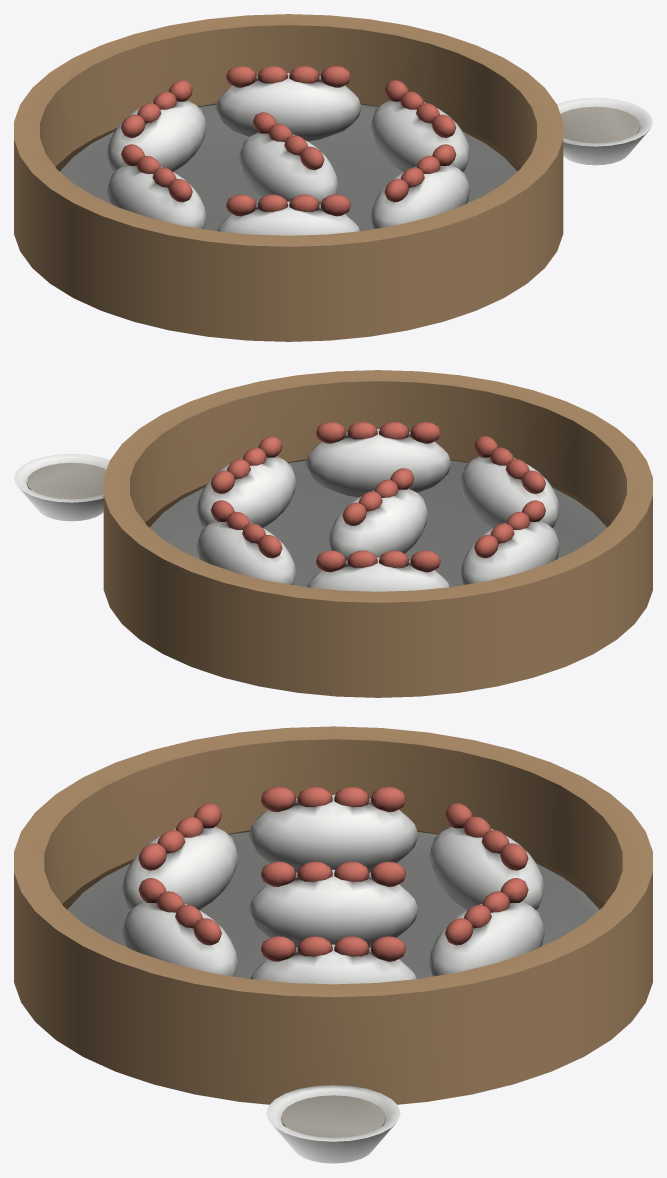
Rendered from meal_dumpling.glb.
The picture shows the model from 3 angles, top to bottom: view 1: azimuth 30°, elevation 25°; view 2: azimuth 150°, elevation 25°; view 3: azimuth 270°, elevation 25°; orthographic projection. The views are drawn at different scales.
Parts seen in each view (by area): view 1: PART; view 2: PART; view 3: PART.
Boxes of the visible parts, box(x1,y1,x2,y2) form: PART: box(14, 14, 652, 341); PART: box(14, 370, 652, 697); PART: box(14, 726, 652, 1163).
Bounding box in the file's own units: 0.262 × 0.04 × 0.2094.
